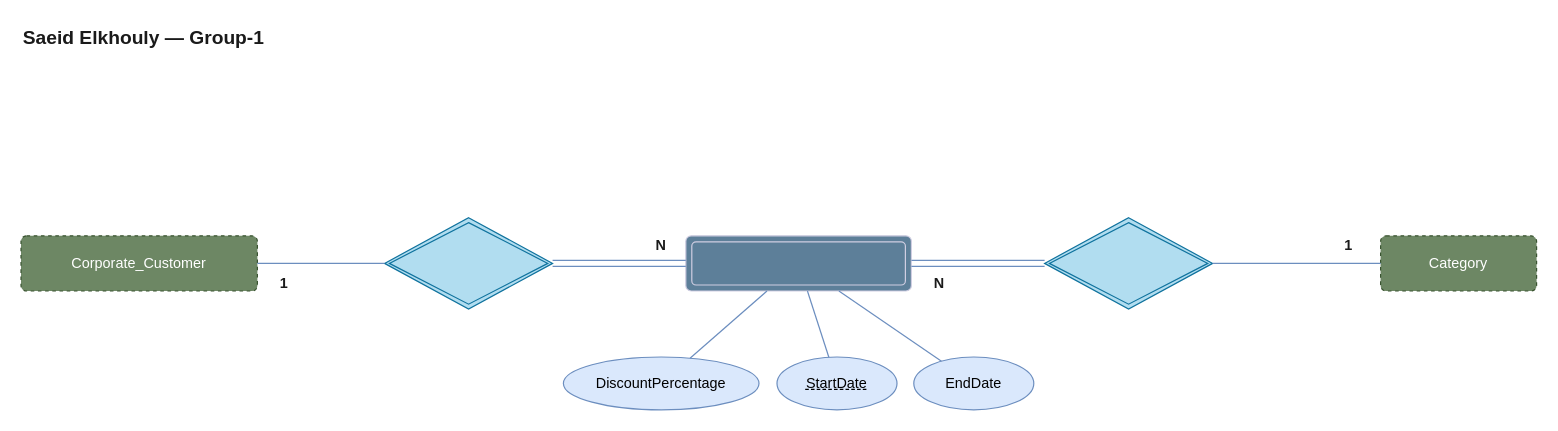
Image size: 1558x431. Some labels were removed from this diagram. The shapes that lost their labels are listed below. From the top down, each one's centre as x and y in pixels, then its label:
pixel 468 263: Is granted
pixel 798 263: Contract_Discount
pixel 1128 263: Applies to
